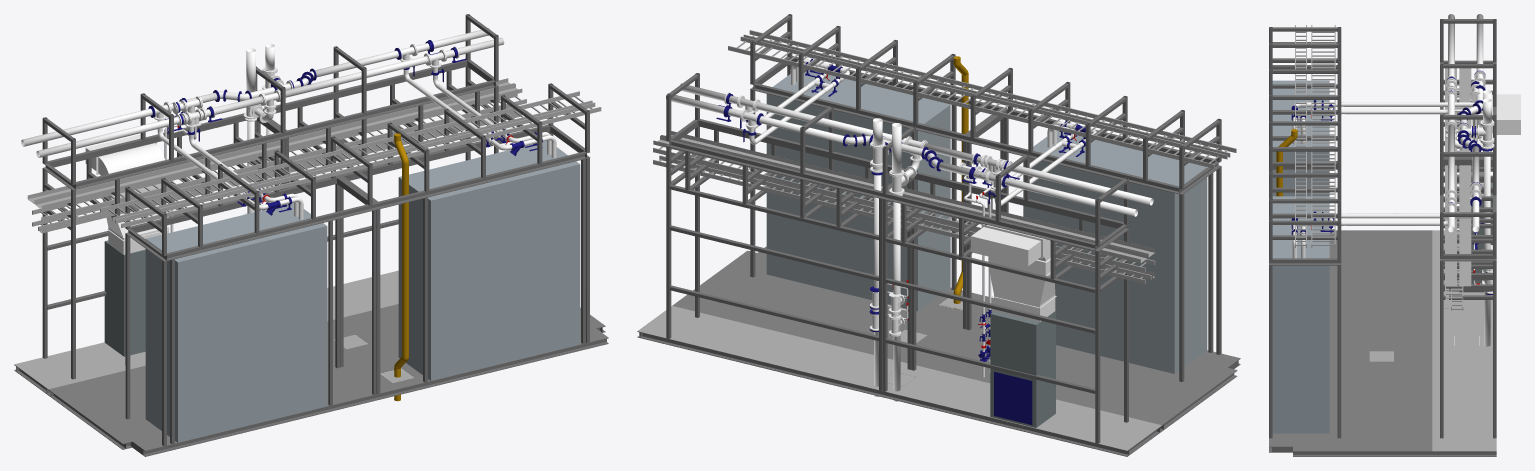
File: Skid_Type_4&5.glb
3 renders of one model, left to right at view 1: azimuth 30°, elevation 25°; view 2: azimuth 150°, elevation 25°; view 3: azimuth 270°, elevation 25°, orthographic. The views are drawn at different scales.
Visible parts, largest first — view 1: Untitled.2051, Untitled.2052, Untitled.2606, Untitled.337, Untitled.2007, Untitled.1342, Untitled.2003, Untitled.1128, Untitled.906, Untitled.1354, Untitled.907, Untitled.2079 (+24 smaller); view 2: Untitled.2051, Untitled.2606, Untitled.2052, Untitled.337, Untitled.2007, Untitled.1128, Untitled.2003, Untitled.886, Untitled.1342, Untitled.885, Untitled.879, Untitled.1345 (+32 smaller); view 3: Untitled.2606, Untitled.2052, Untitled.337, Untitled.2051, Untitled.2007, Untitled.1348, Untitled.2003, Untitled.1342, Untitled.1906, Untitled.2974, Cylinder.050, Untitled.2083 (+34 smaller).
Part boxes in pixels (left/top/right/bottom): Untitled.2051: left=145, top=202, right=327, bottom=442; Untitled.2052: left=398, top=141, right=580, bottom=380; Untitled.2606: left=48, top=304, right=608, bottom=450; Untitled.337: left=14, top=270, right=398, bottom=389; Untitled.2007: left=100, top=91, right=592, bottom=221; Untitled.1342: left=35, top=84, right=522, bottom=209; Untitled.2003: left=115, top=102, right=601, bottom=227; Untitled.1128: left=104, top=240, right=145, bottom=356; Untitled.906: left=167, top=151, right=586, bottom=260; Untitled.1354: left=32, top=93, right=526, bottom=221; Untitled.907: left=76, top=80, right=495, bottom=189; Untitled.2079: left=143, top=338, right=608, bottom=456; Untitled.2051: left=1023, top=130, right=1207, bottom=373; Untitled.2606: left=672, top=246, right=1240, bottom=425; Untitled.2052: left=766, top=70, right=950, bottom=311; Untitled.337: left=637, top=306, right=1161, bottom=450; Untitled.2007: left=728, top=36, right=1227, bottom=168; Untitled.1128: left=990, top=310, right=1055, bottom=427; Untitled.2003: left=743, top=30, right=1236, bottom=157; Untitled.886: left=669, top=140, right=1095, bottom=250; Untitled.1342: left=661, top=131, right=1154, bottom=257; Untitled.885: left=753, top=83, right=1179, bottom=194; Untitled.879: left=637, top=331, right=1129, bottom=456; Untitled.1345: left=653, top=155, right=1151, bottom=284; Untitled.2606: left=1269, top=230, right=1432, bottom=451; Untitled.2052: left=1272, top=196, right=1329, bottom=433; Untitled.337: left=1432, top=230, right=1496, bottom=451; Untitled.2051: left=1272, top=80, right=1329, bottom=196; Untitled.2007: left=1311, top=25, right=1335, bottom=247; Untitled.1348: left=1459, top=68, right=1471, bottom=286; Untitled.2003: left=1295, top=25, right=1306, bottom=247; Untitled.1342: left=1445, top=68, right=1456, bottom=286; Untitled.1906: left=1497, top=94, right=1520, bottom=134; Untitled.2974: left=1337, top=265, right=1341, bottom=438; Cylinder.050: left=1484, top=151, right=1490, bottom=346; Untitled.2083: left=1293, top=451, right=1432, bottom=456.
Bounding box in the file's own units: 12.86 × 7.21 × 6.17.
